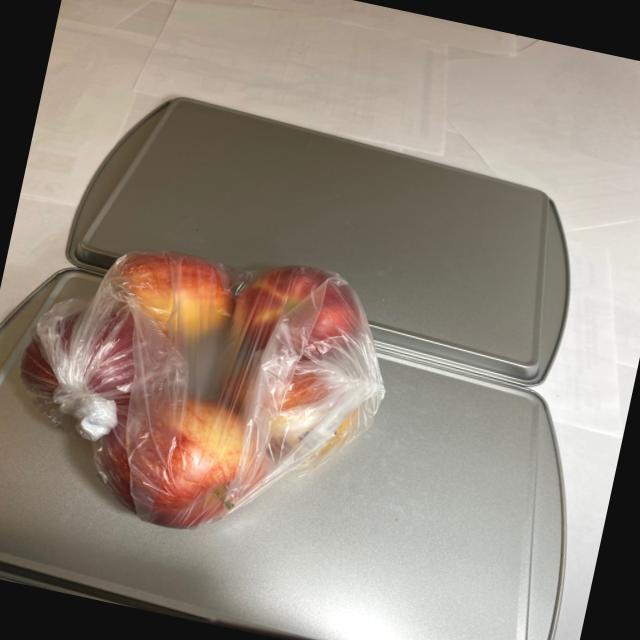apple: (0, 210, 405, 574)
